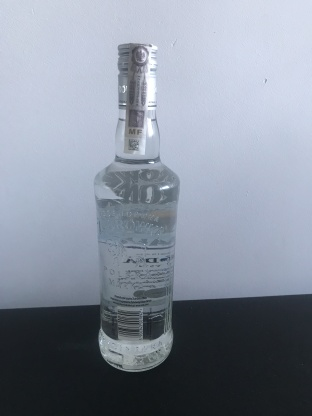nakretka: (114, 38, 160, 114)
